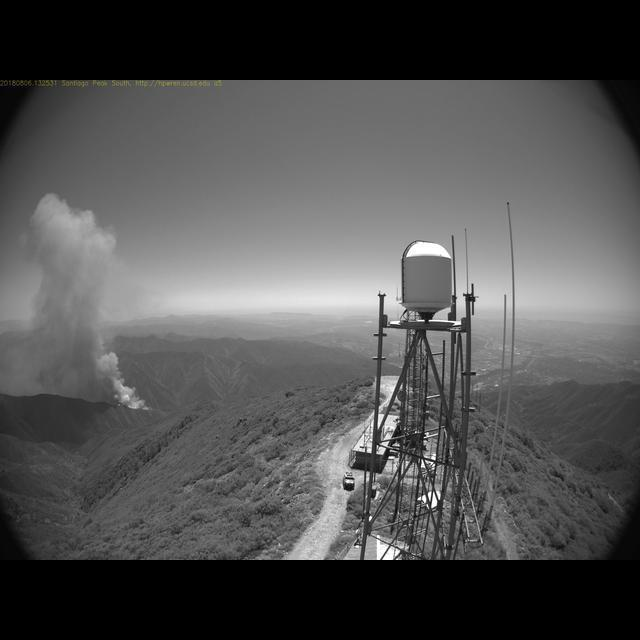Smoke: (2, 193, 150, 413)
